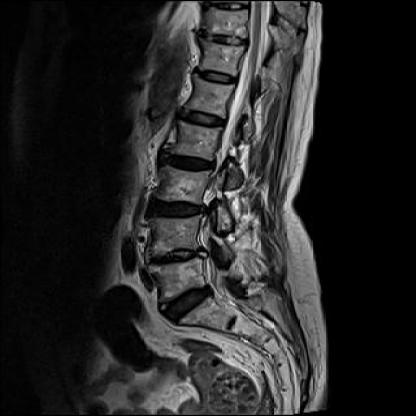Annular Tearrotation: (145, 244, 210, 268), (156, 291, 218, 315)
Disc Bulgerotation: (145, 244, 210, 268), (157, 291, 219, 315), (160, 153, 214, 172), (179, 109, 227, 129)
